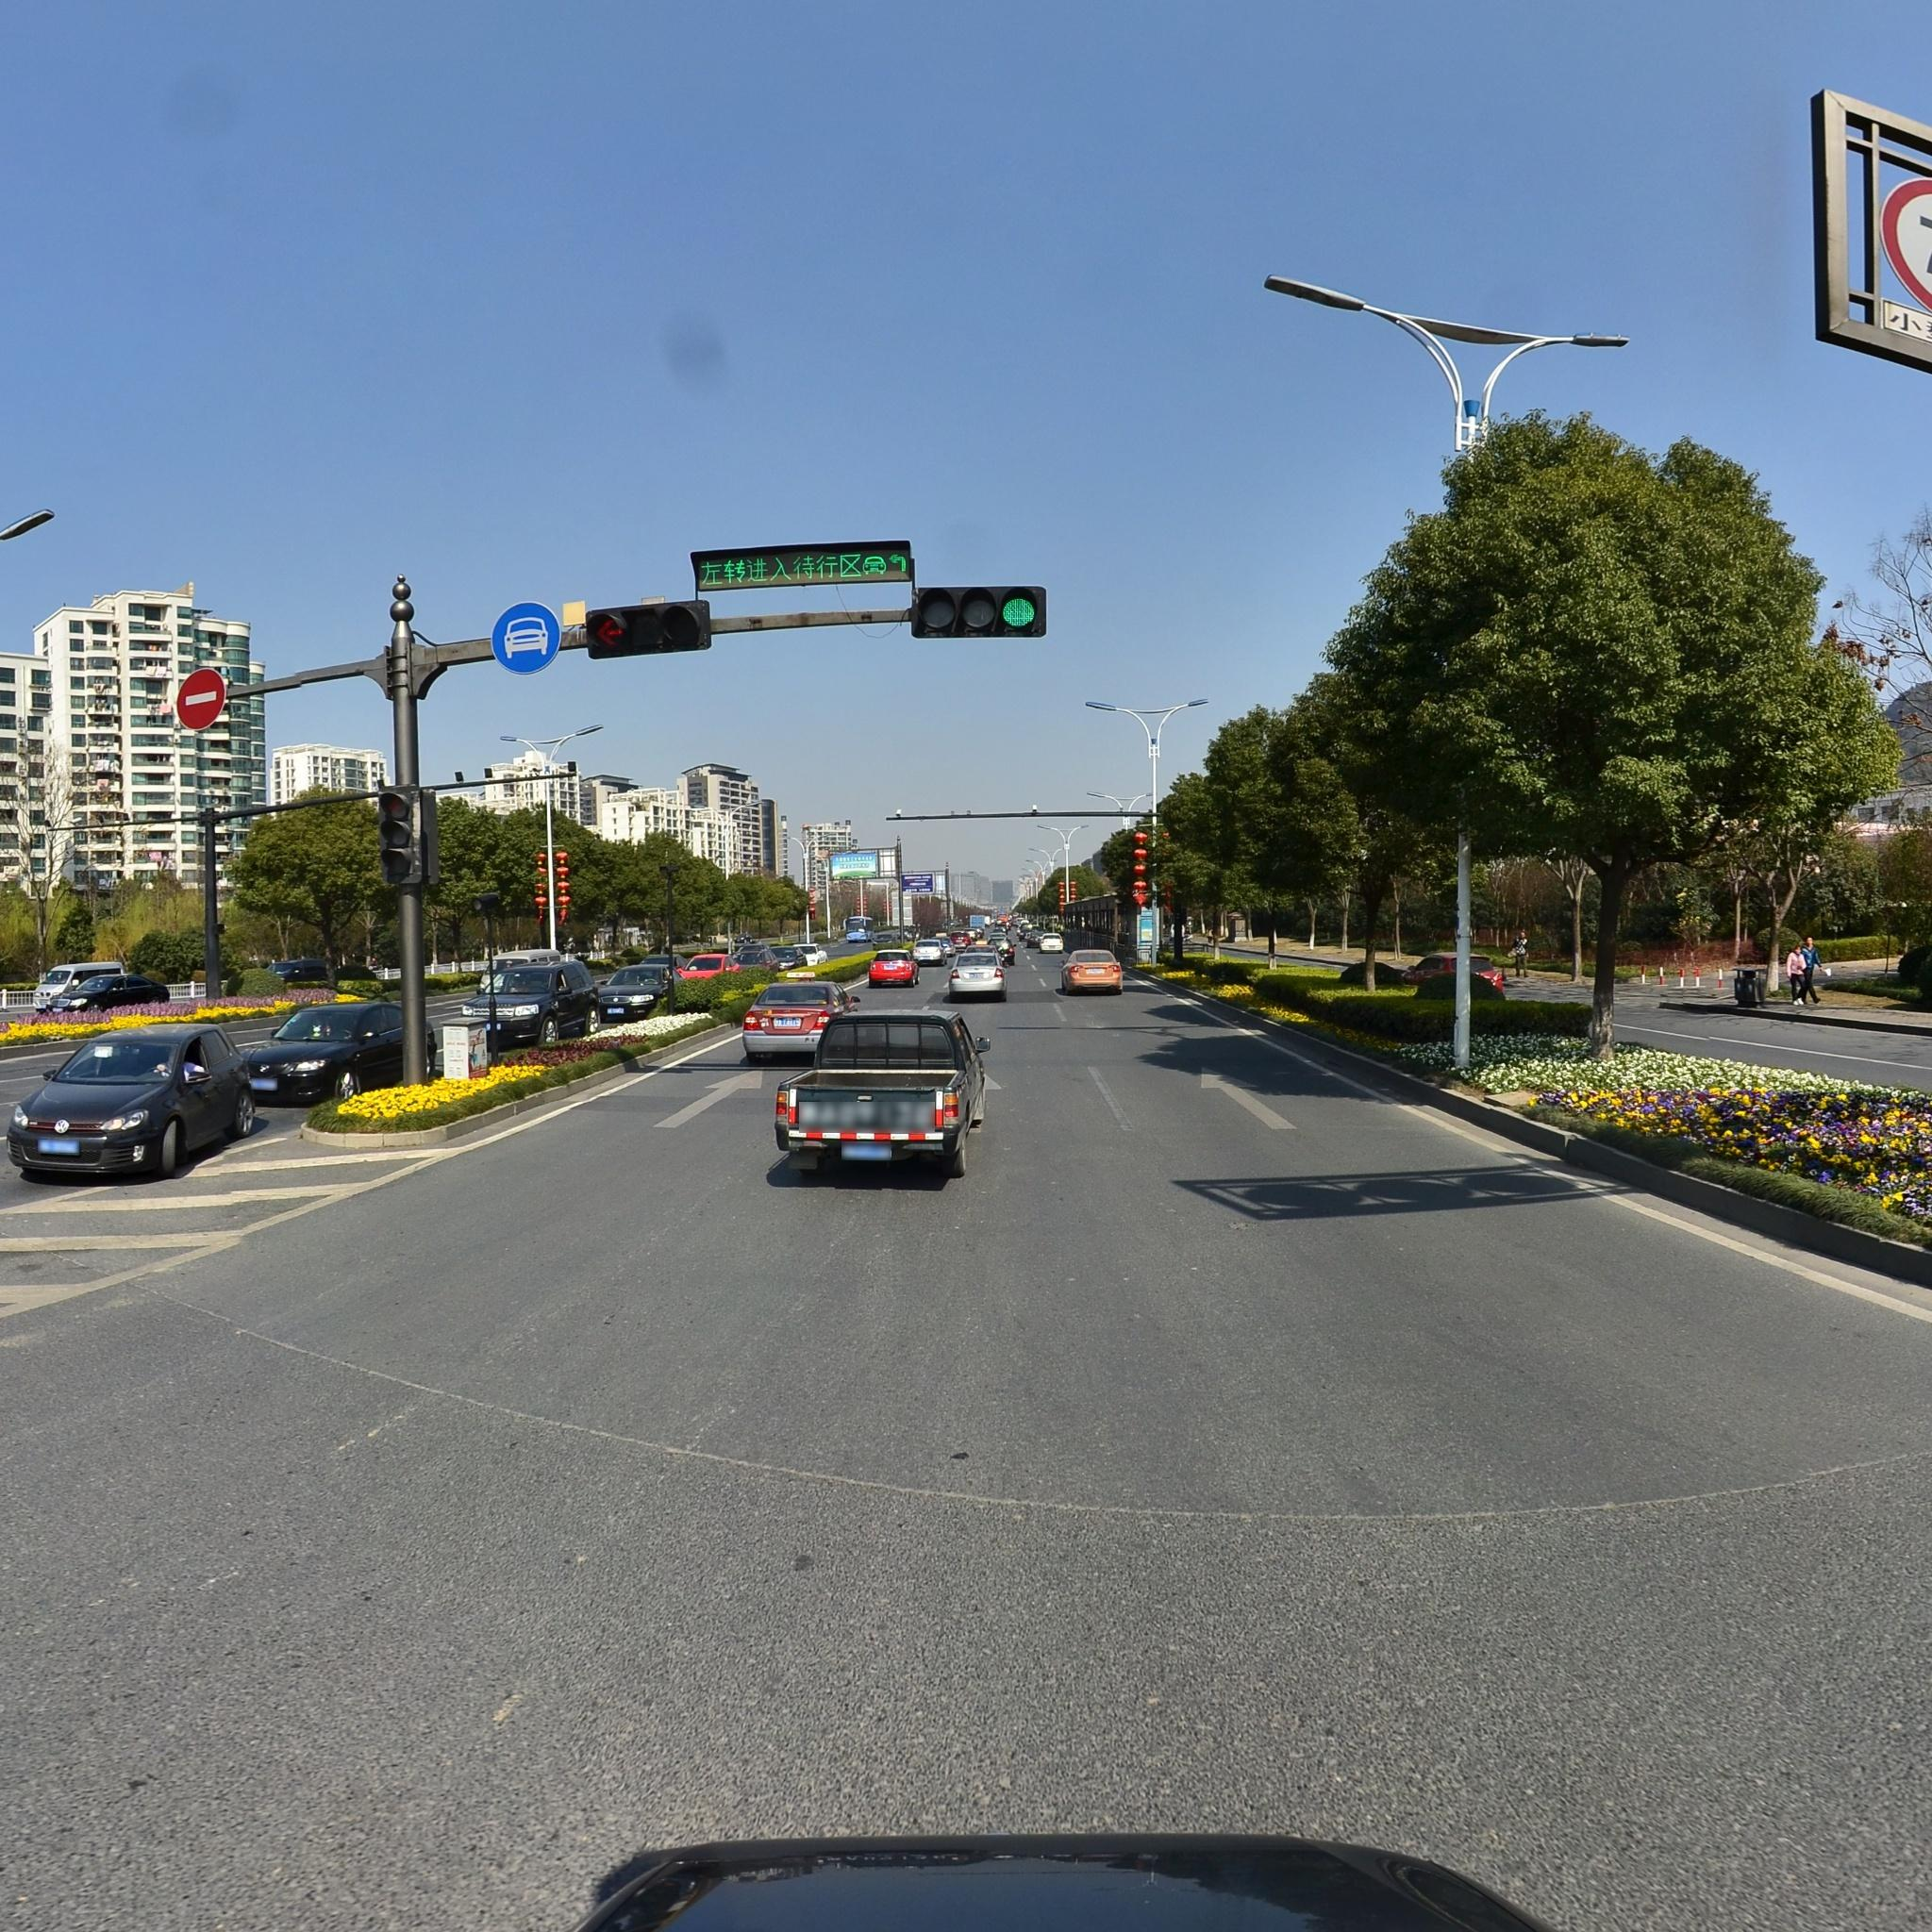i4: (495, 602, 559, 676)
pne: (173, 660, 234, 722)
